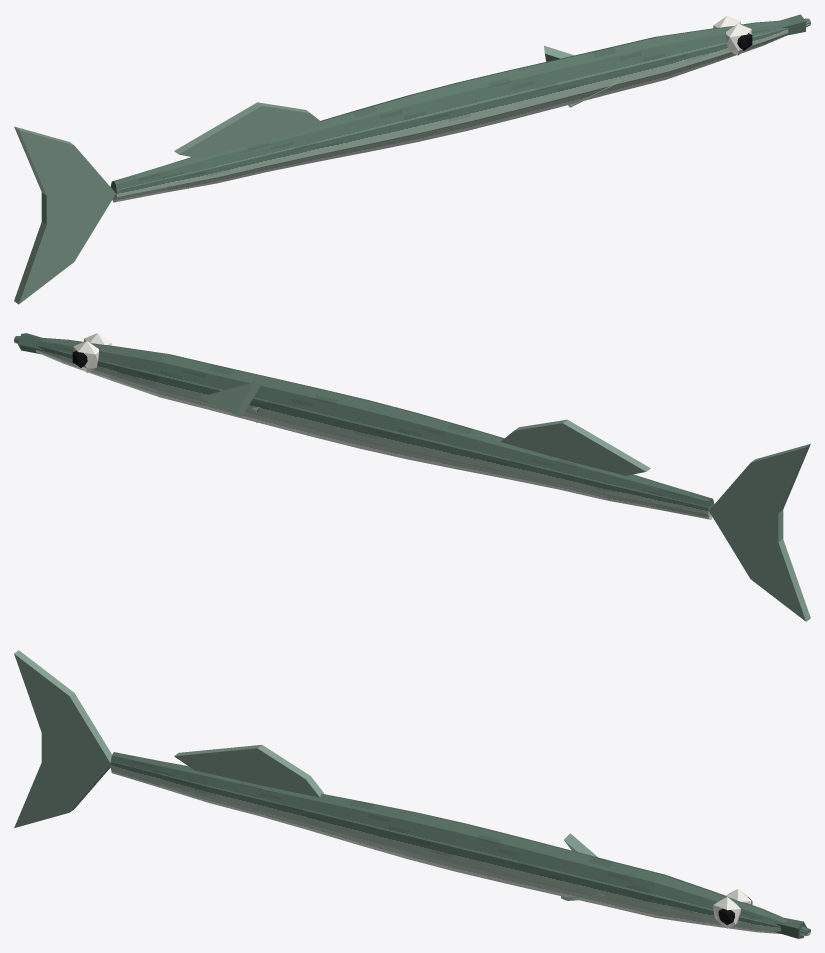
Rendered from river_garfish.glb.
3 renders of one model, top to bottom at view 1: azimuth 30°, elevation 25°; view 2: azimuth 150°, elevation 25°; view 3: azimuth 330°, elevation 25°, orthographic.
Visible parts, largest first — view 1: fish_river_garfish; view 2: fish_river_garfish; view 3: fish_river_garfish.
Boxes of the visible parts, left/top/right/bottom form: fish_river_garfish: left=14, top=14, right=810, bottom=304; fish_river_garfish: left=14, top=333, right=810, bottom=621; fish_river_garfish: left=14, top=650, right=810, bottom=938.
Size of the model in its own units: 1.14 by 0.24 by 0.0811.
Materials: 5 (1 with a texture image).
